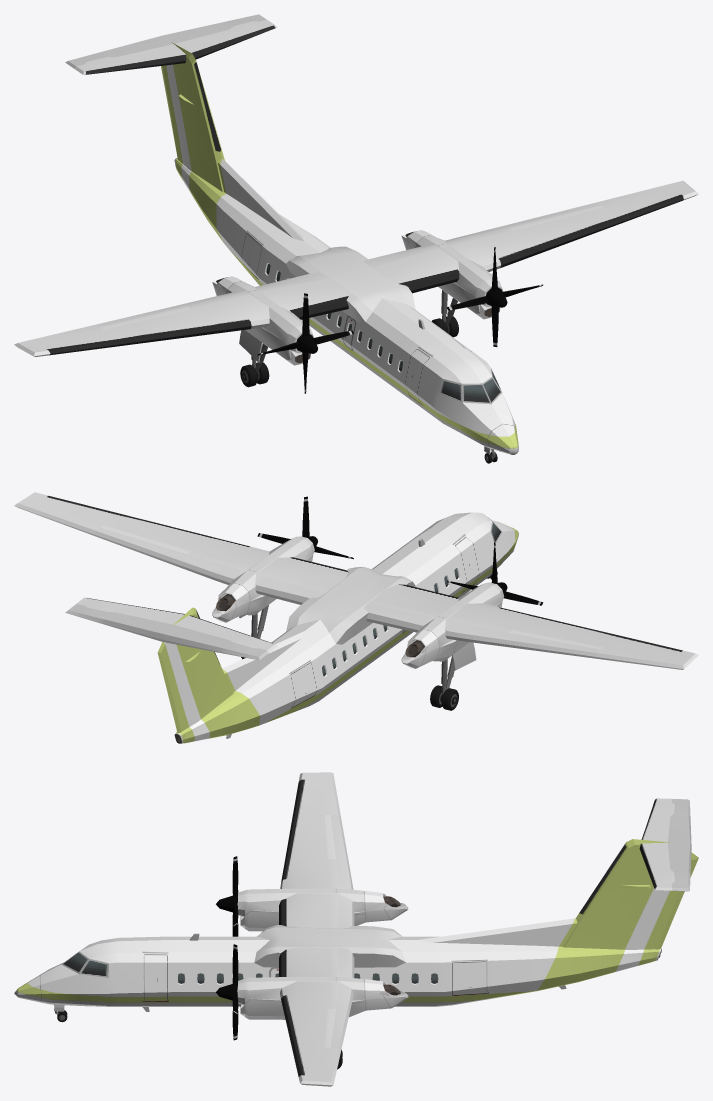
Rendered from Passenger Aircraft V3.fbx.
3 renders of one model, top to bottom at view 1: azimuth 30°, elevation 25°; view 2: azimuth 150°, elevation 25°; view 3: azimuth 270°, elevation 25°, orthographic. The views are drawn at different scales.
Parts seen in each view (by area): view 1: Body, PropellerR, PropellerL, Back Landing gear; view 2: Body, Back Landing gear, PropellerL, PropellerR, Back Wheel R; view 3: Body, PropellerL, PropellerR.
Boxes of the visible parts, left/top/right/bottom form: Body: left=14, top=14, right=698, bottom=454; PropellerR: left=257, top=293, right=353, bottom=393; PropellerL: left=447, top=247, right=542, bottom=346; Back Landing gear: left=239, top=290, right=457, bottom=372; Body: left=14, top=492, right=698, bottom=743; Back Landing gear: left=239, top=605, right=476, bottom=695; PropellerL: left=257, top=496, right=353, bottom=559; PropellerR: left=447, top=542, right=543, bottom=605; Back Wheel R: left=430, top=685, right=458, bottom=710; Body: left=14, top=772, right=698, bottom=1086; PropellerL: left=216, top=944, right=238, bottom=1040; PropellerR: left=216, top=856, right=238, bottom=936.
Size of the model in its own units: 26.26 by 7.21 by 24.35.
Materials: 1 (1 with a texture image).
